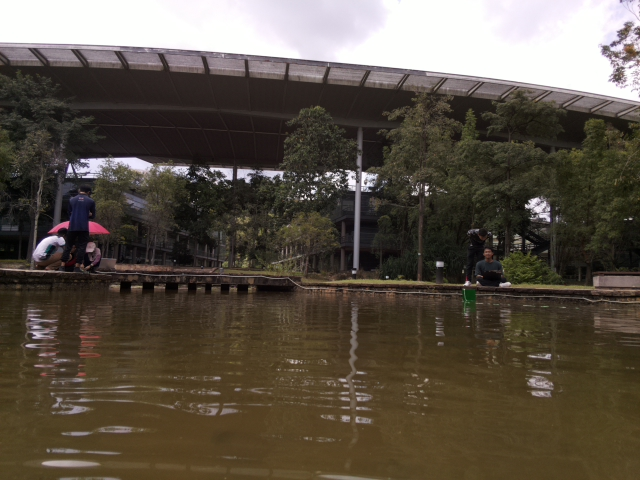obstacle: (461, 287, 477, 303)
